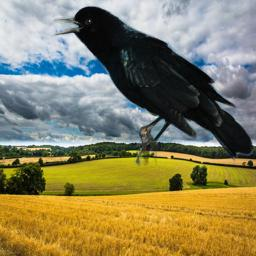Crow: (53, 6, 253, 166)
